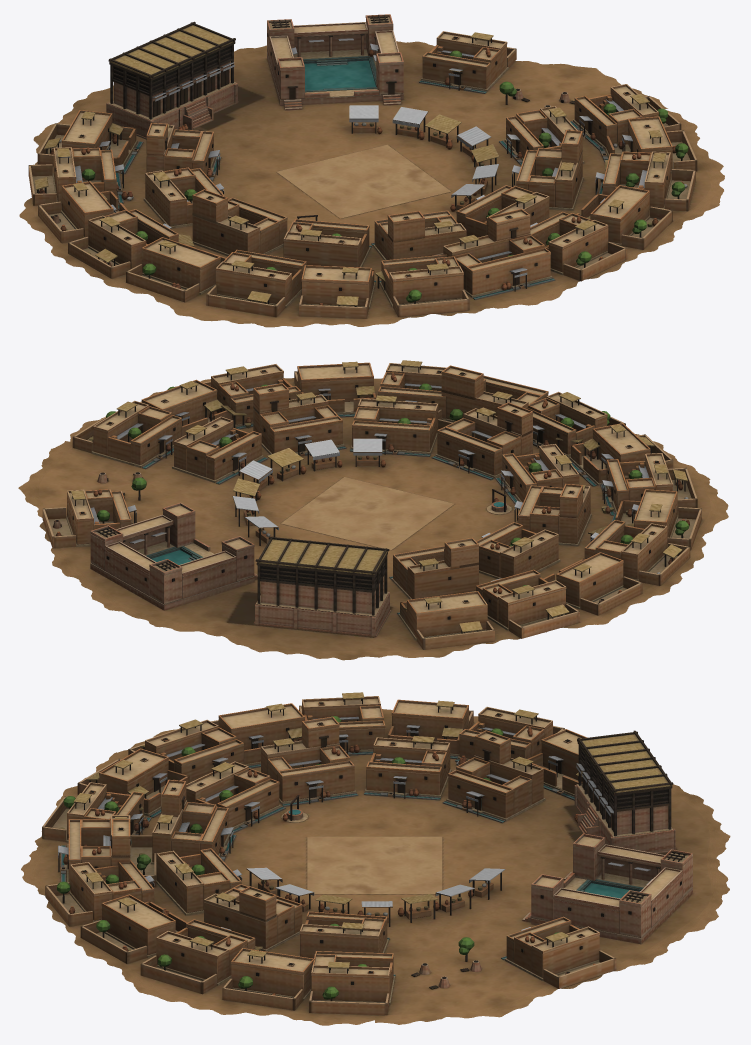
Rendered from bronze-town-big-b-indic-68c905a8.glb.
3 views of the same model, one above another, from view 1: azimuth 30°, elevation 25°; view 2: azimuth 150°, elevation 25°; view 3: azimuth 270°, elevation 25° (orthographic). The views are drawn at different scales.
Visible parts, largest first — view 1: LOD0; view 2: LOD0; view 3: LOD0.
Boxes of the visible parts, left/top/right/bottom form: LOD0: left=19, top=14, right=724, bottom=327; LOD0: left=18, top=360, right=728, bottom=660; LOD0: left=21, top=692, right=730, bottom=1025.
Size of what is drawn, in the model's own units: 7.93 by 0.7997 by 7.49.
Materials: 3 (3 with a texture image).
